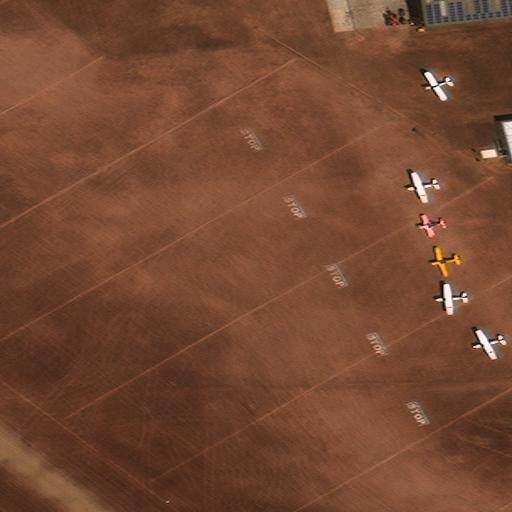Small Civil Transport: (435, 284, 469, 314), (407, 173, 440, 203), (472, 331, 505, 360), (430, 247, 460, 277), (423, 74, 453, 101), (417, 215, 446, 237)
